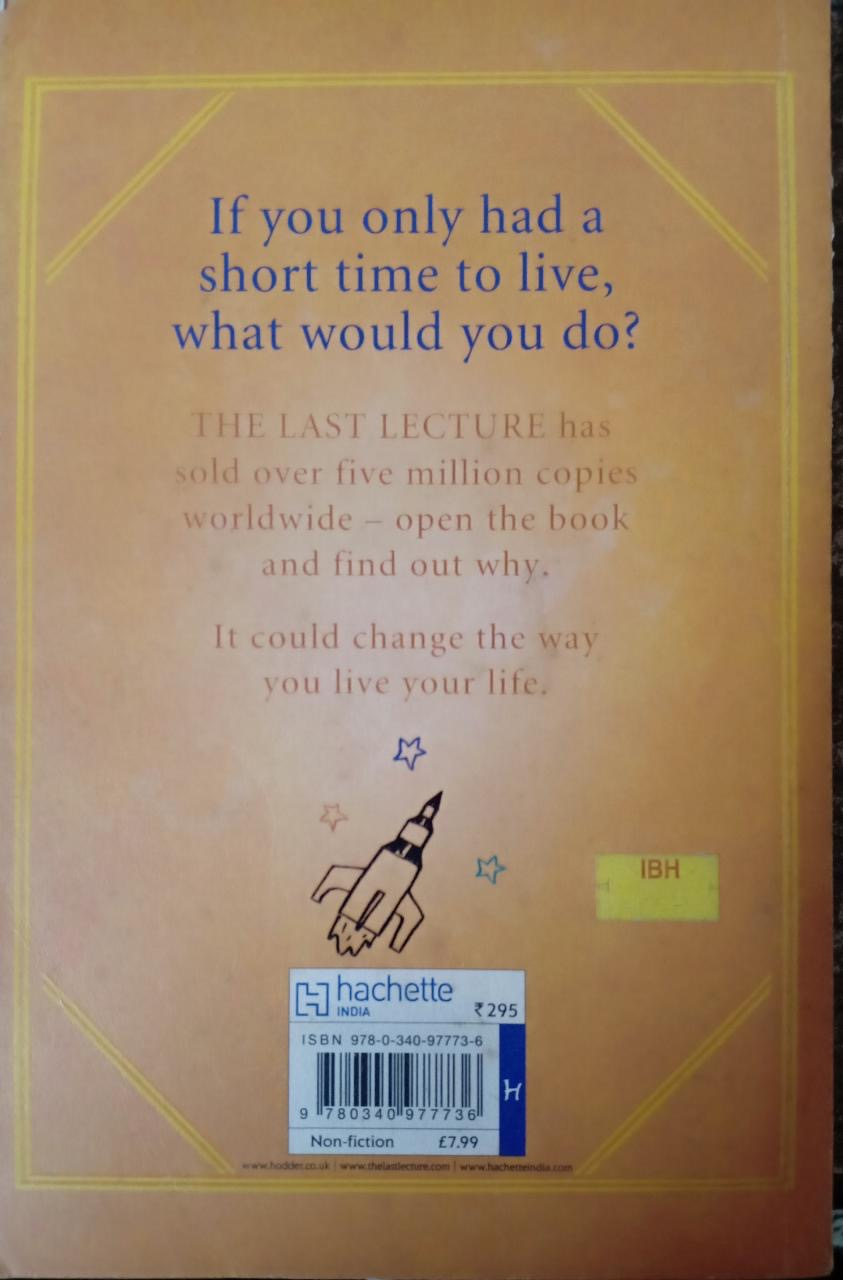barcode: (293, 1027, 490, 1134)
